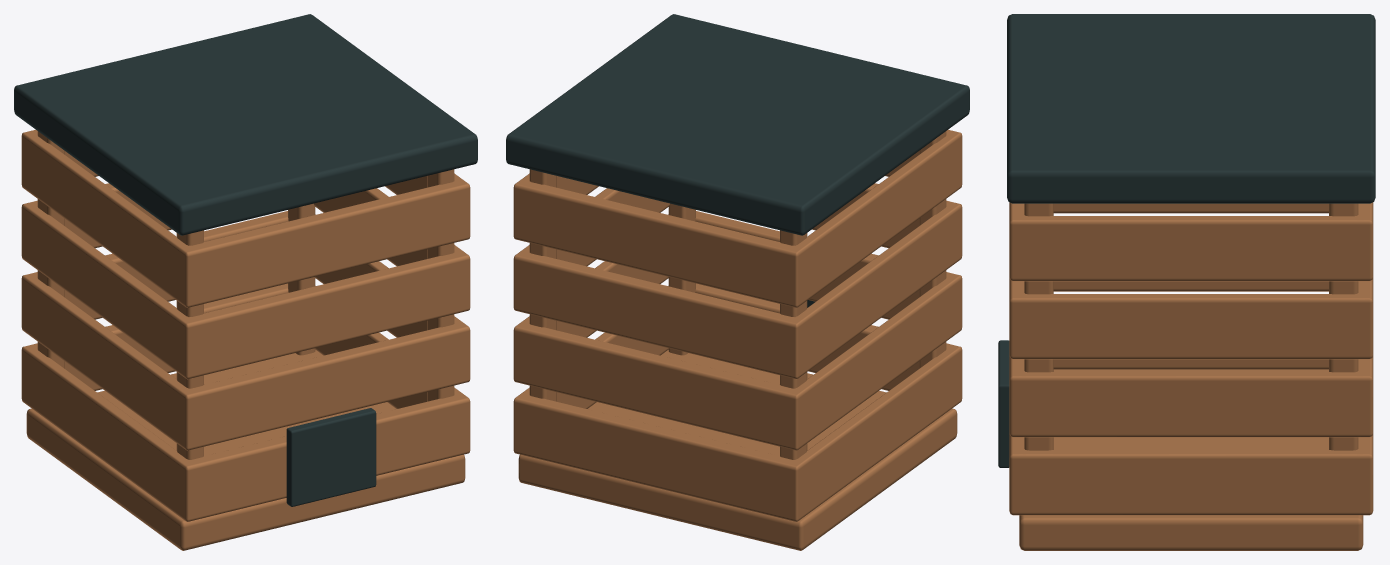
The model's file is wp-composteur.glb.
The picture shows the model from 3 angles, left to right: view 1: azimuth 30°, elevation 25°; view 2: azimuth 150°, elevation 25°; view 3: azimuth 270°, elevation 25°; orthographic projection. The views are drawn at different scales.
Visible parts, largest first — view 1: wp-composteur; view 2: wp-composteur; view 3: wp-composteur.
Part boxes in pixels (x1,y1,x2,y2): wp-composteur: (14, 14, 477, 550); wp-composteur: (506, 14, 969, 550); wp-composteur: (998, 14, 1375, 550).
Size of the model in its own units: 0.8 by 0.9 by 0.8.
